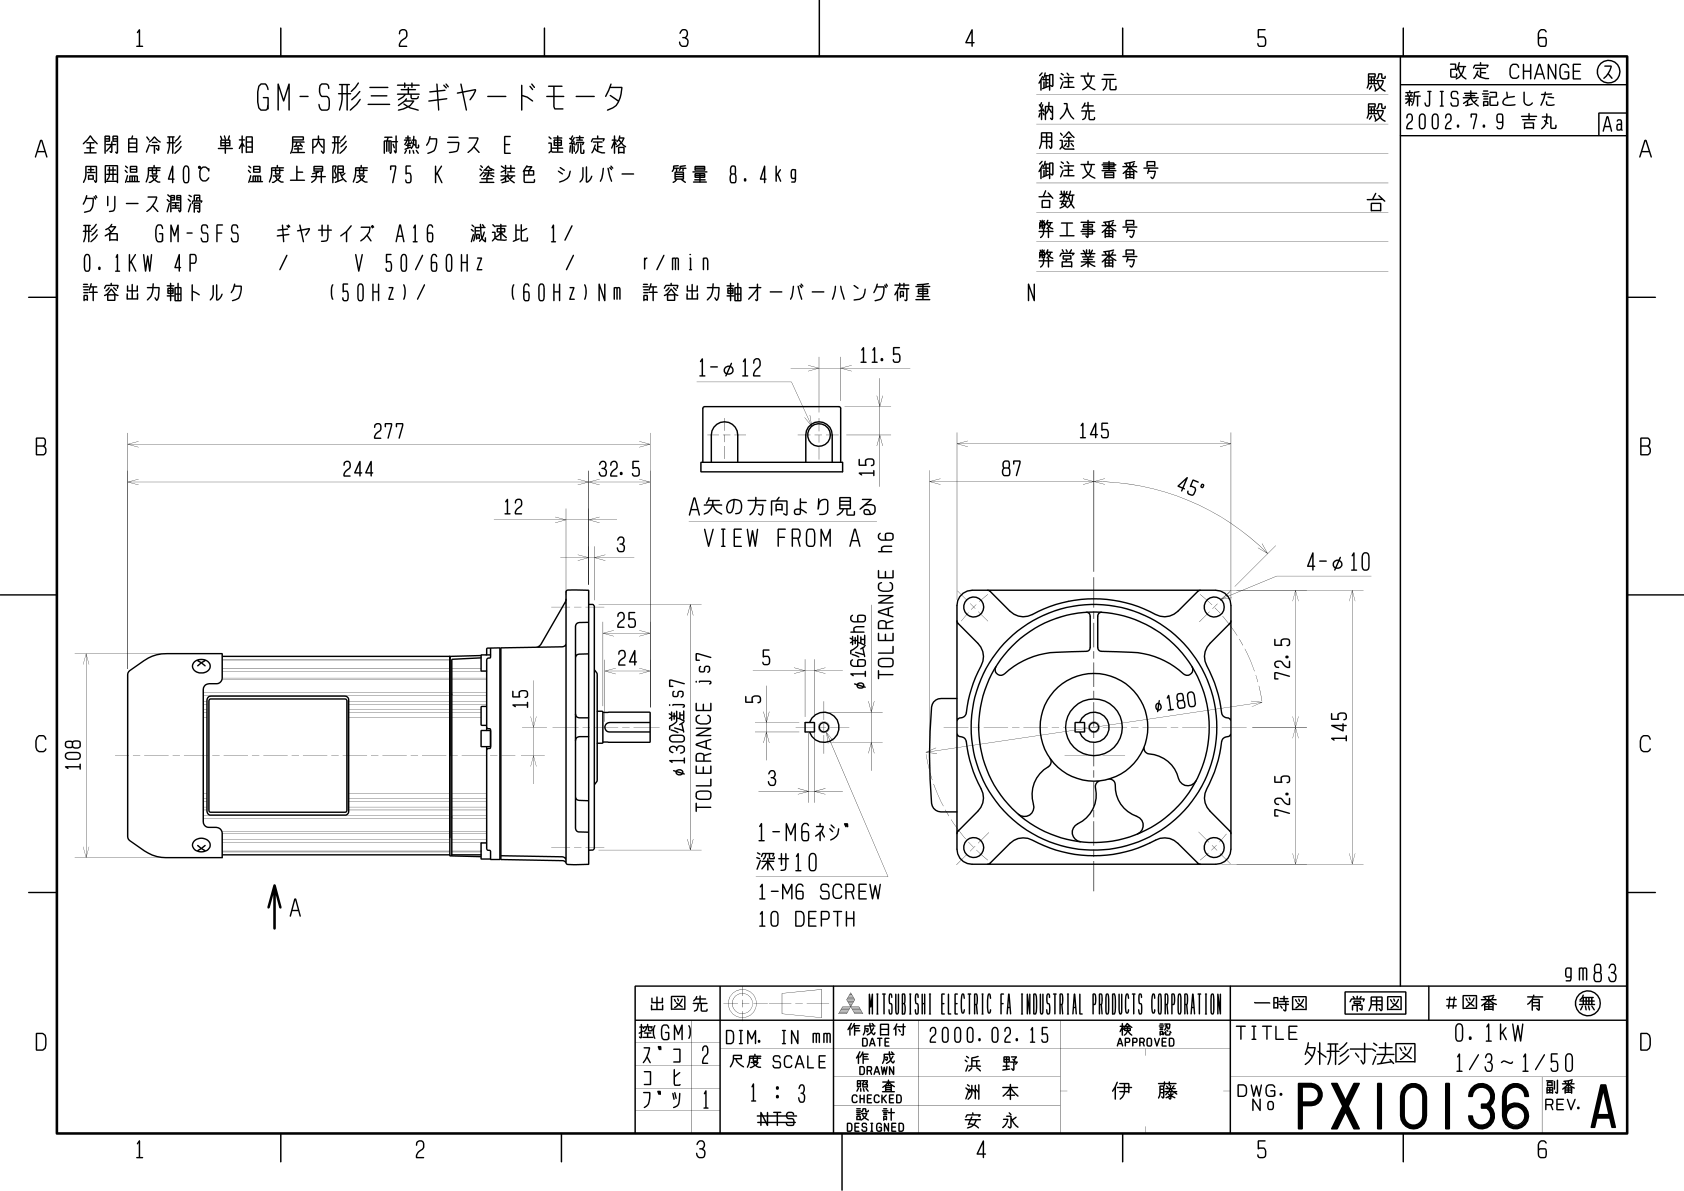GM_S_屋内＿単相_フランジ: (61, 324, 1375, 944)
